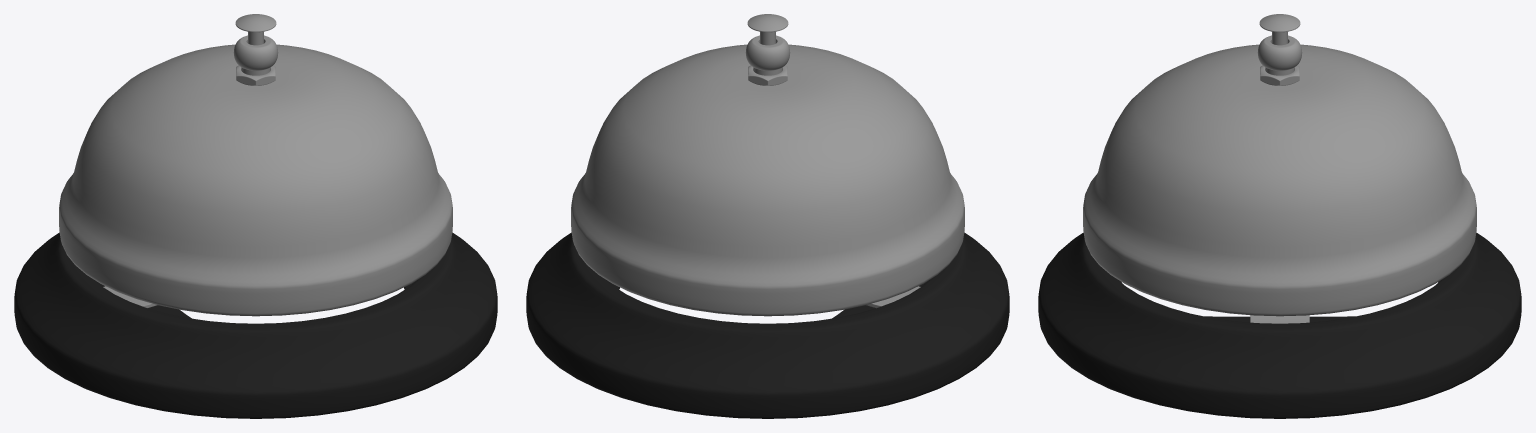
Rendered from Table_Bell.glb.
3 renders of one model, left to right at view 1: azimuth 30°, elevation 25°; view 2: azimuth 150°, elevation 25°; view 3: azimuth 270°, elevation 25°, orthographic.
Visible parts, largest first — view 1: Table_Bell; view 2: Table_Bell; view 3: Table_Bell.
Part boxes in pixels (<box>): Table_Bell: <box>14,14,497,418</box>; Table_Bell: <box>526,14,1009,418</box>; Table_Bell: <box>1038,14,1521,418</box>.
Bounding box in the file's own units: 0.0844 × 0.0577 × 0.0844.
1 material, 1 textured.
